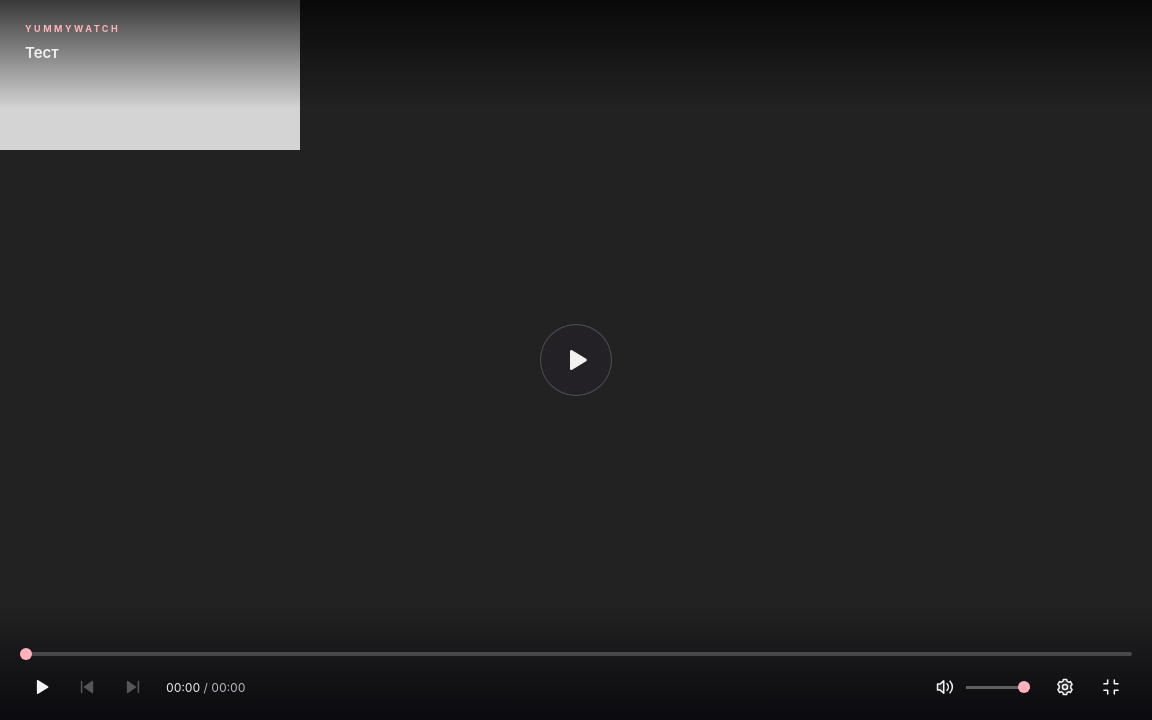
Test case: desktop IPC and application chrome › closes player settings, then exits fullscreen, then goes back on separate Escape presses
This screenshot has width=1152, height=720.
Later steps or results of the test are not shown.
Click the button named "Настройки плеера" at (1065, 687), box [1044,666,1086,708]
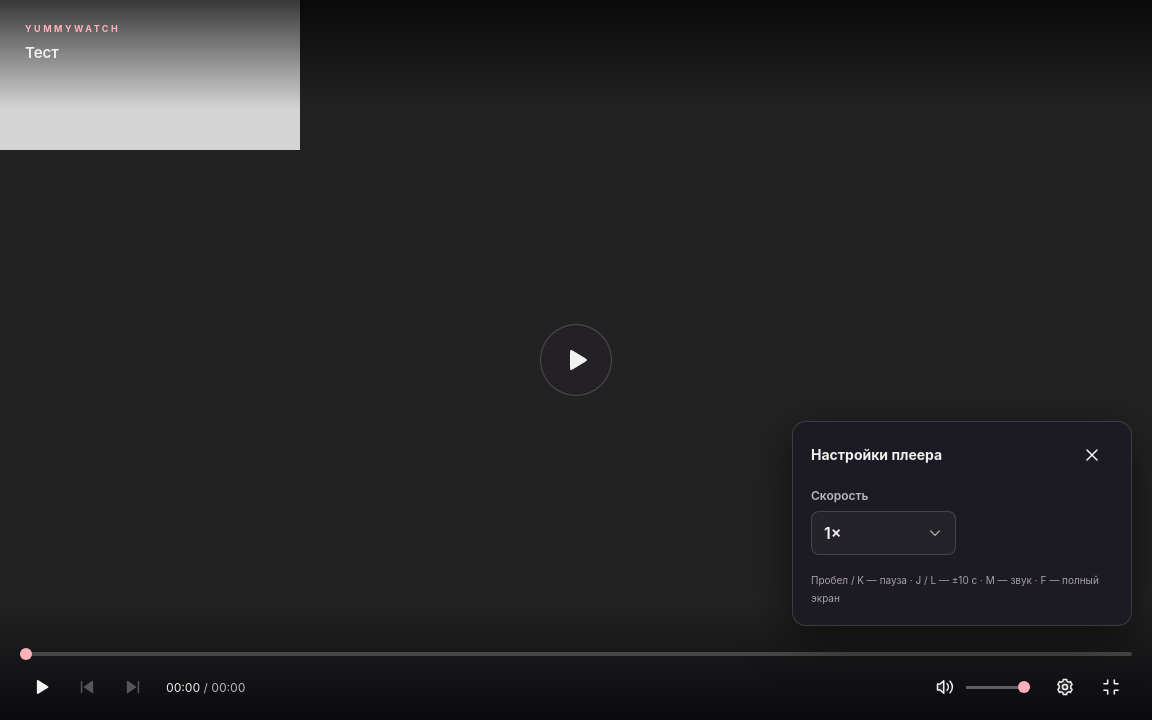
Press Escape
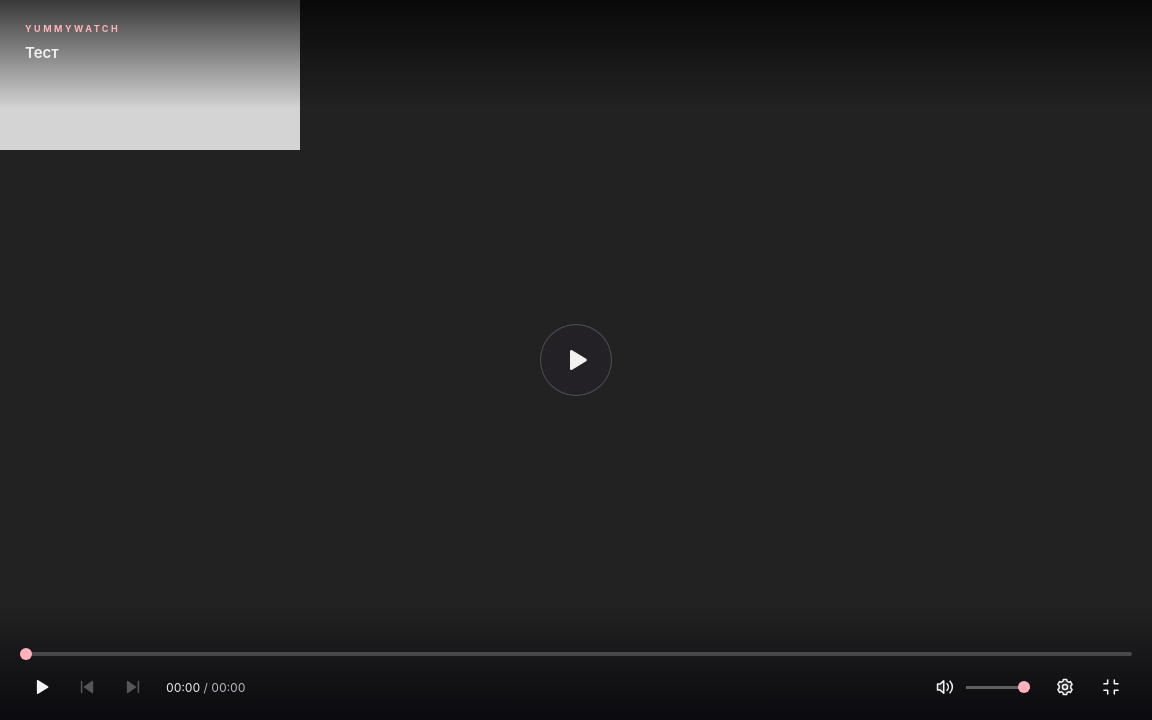
Now the text "Настройки плеера" is gone
